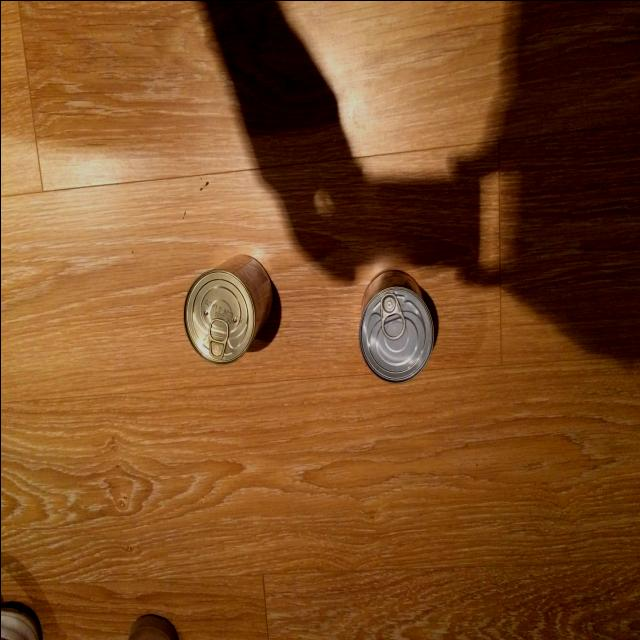Food Can: (182, 254, 272, 364), (358, 270, 433, 382)
Pop tab: (380, 292, 405, 339), (208, 317, 228, 358), (383, 313, 402, 336), (210, 319, 226, 340)
